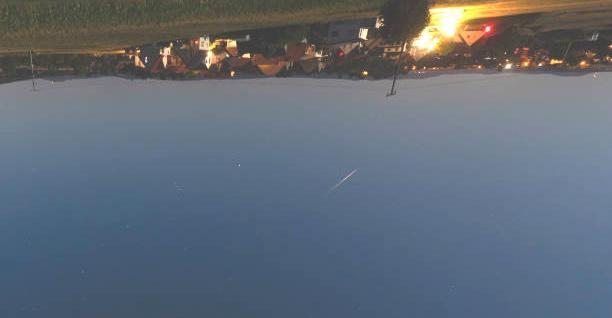meteorite: (316, 167, 371, 185)
